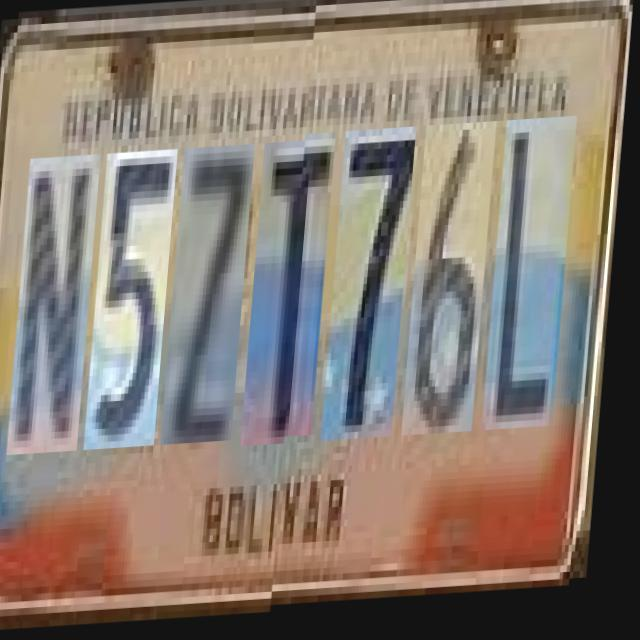5: (92, 145, 182, 445)
6: (409, 128, 499, 442)
7: (328, 132, 418, 446)
L: (490, 124, 580, 438)
N: (14, 149, 104, 449)
T: (249, 136, 339, 444)
Z: (168, 141, 258, 441)
